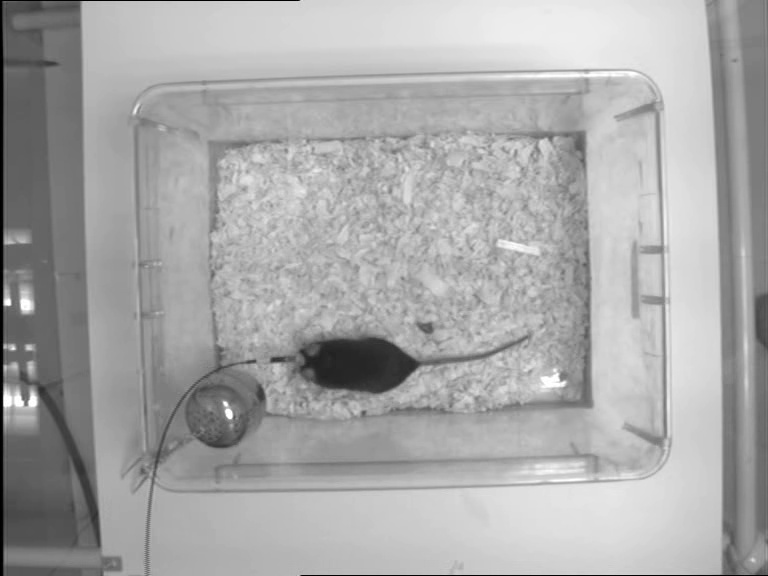mice: (291, 329, 530, 393)
